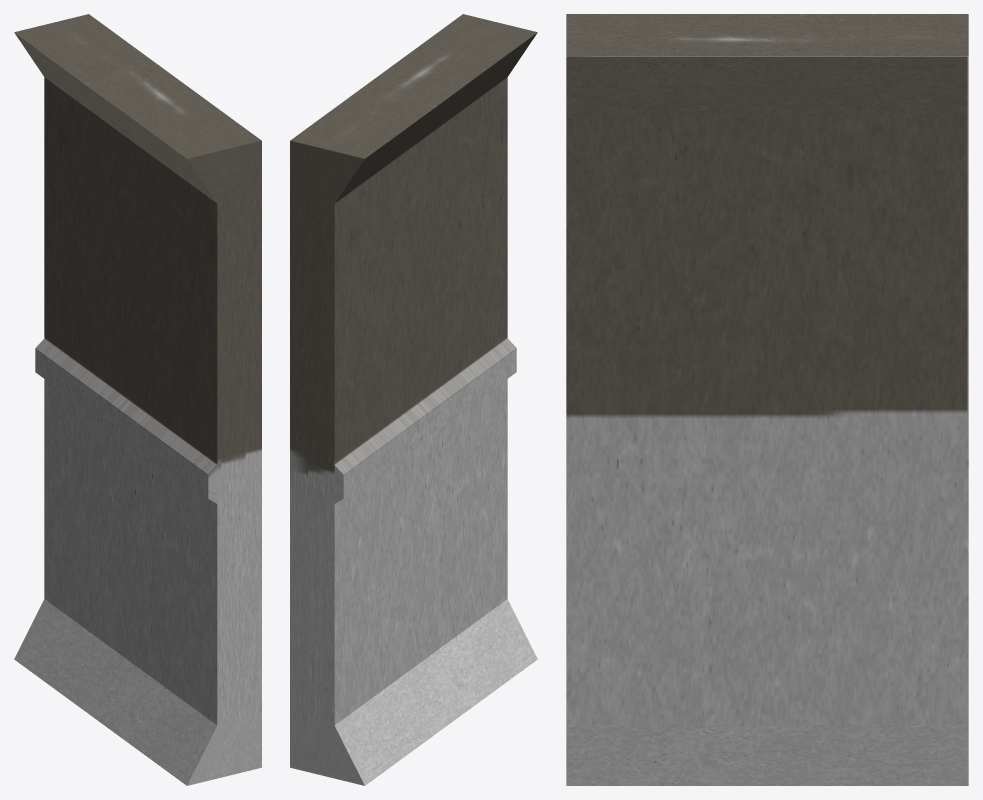
The model's file is Lab_Wall.fbx.
3 renders of one model, left to right at view 1: azimuth 30°, elevation 25°; view 2: azimuth 150°, elevation 25°; view 3: azimuth 270°, elevation 25°, orthographic. The views are drawn at different scales.
Visible parts, largest first — view 1: LabWall84; view 2: LabWall84; view 3: LabWall84.
Boxes of the visible parts, x1,y1,x2,y2 form: LabWall84: [14, 14, 261, 785]; LabWall84: [290, 14, 537, 785]; LabWall84: [566, 14, 968, 785].
Size of the model in its own units: 0.5 by 4 by 2.
